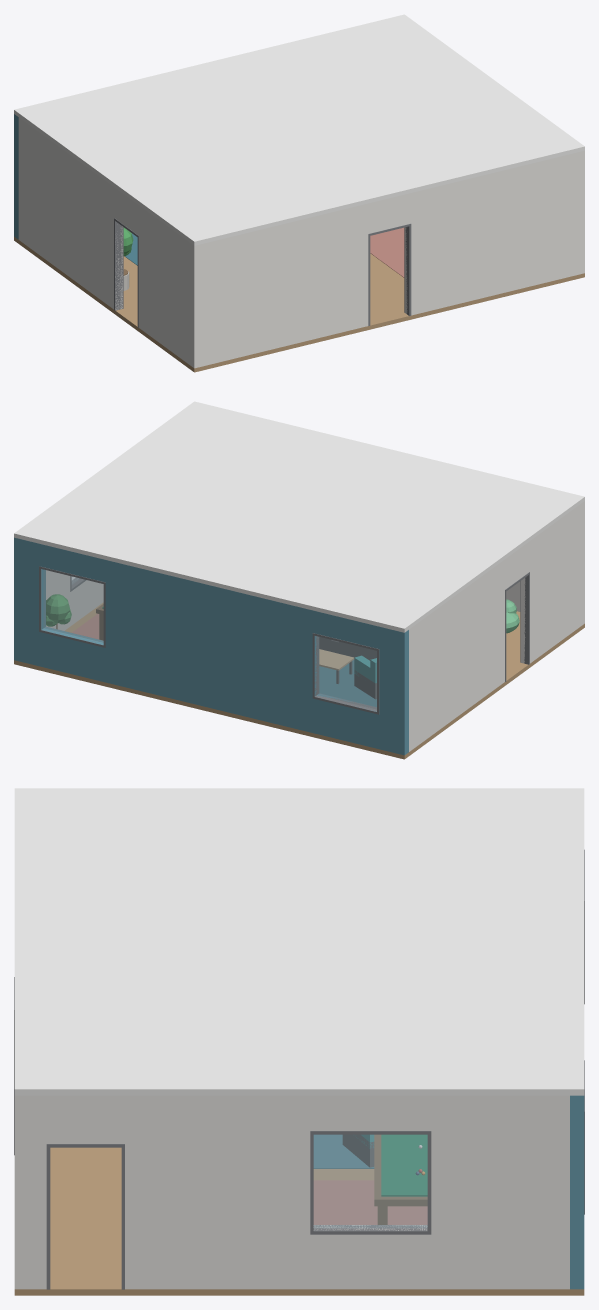
3 views of the same model, one above another, from view 1: azimuth 30°, elevation 25°; view 2: azimuth 150°, elevation 25°; view 3: azimuth 270°, elevation 25° (orthographic). The views are drawn at different scales.
Parts seen in each view (by area): view 1: Ceiling, Wall_S, Wall_W, Floor, Rug.001, Frames_W, Frames_S, Wall_N; view 2: Ceiling, Wall_N, Wall_W, Frames_N, Floor, Wall_E, Rug, Wall_S, Armchair_1, Frames_W, Plant.001, CoffeeTable (+1 smaller); view 3: Ceiling, Wall_E, Floor, Frames_E, PoolTable, Rug.001, Wall_N, Wall_S, Rug, Armchair_2.
Part boxes in pixels (x1,y1,x2,y2): Ceiling: (14,14,584,245); Wall_S: (190,150,584,368); Wall_W: (18,117,189,364); Floor: (14,236,584,372); Rug.001: (370,227,404,277); Frames_W: (114,218,138,327); Frames_S: (368,223,411,325); Wall_N: (14,114,18,239); Ceiling: (14,401,584,632); Wall_N: (14,537,408,755); Wall_W: (409,504,580,751); Frames_N: (39,566,379,714); Floor: (14,602,584,759); Wall_E: (46,570,103,630); Rug: (319,660,376,706); Wall_S: (506,501,584,626); Armchair_1: (354,655,376,699); Frames_W: (505,572,529,681); Plant.001: (46,594,71,628); CoffeeTable: (319,649,354,683); Ceiling: (14,788,584,1095); Wall_E: (29,1095,569,1289); Floor: (14,1147,584,1295); Frames_E: (46,1131,431,1289); PoolTable: (374,1134,427,1224); Rug.001: (313,1180,427,1224); Wall_N: (570,1095,584,1289); Wall_S: (14,1095,28,1289); Rug: (313,1134,374,1168); Armchair_2: (342,1134,374,1167).
Size of the model in its own units: 10.02 by 3.2 by 8.02.
